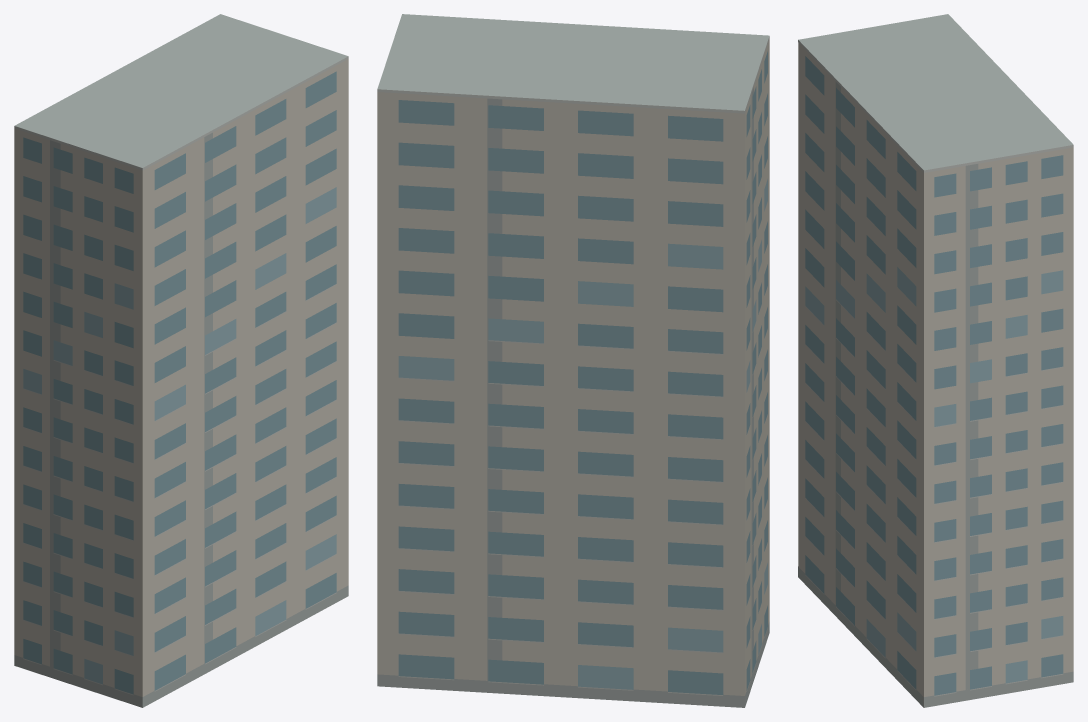
Rendered from residential-382c6c60-bfd9-4953-b75a-600c5de58114.glb.
3 renders of one model, left to right at view 1: azimuth 30°, elevation 25°; view 2: azimuth 150°, elevation 25°; view 3: azimuth 270°, elevation 25°, orthographic. The views are drawn at different scales.
Parts seen in each view (by area): view 1: residential-382c6c60-bfd9-4953-b75a-600c5de58114.tmp; view 2: residential-382c6c60-bfd9-4953-b75a-600c5de58114.tmp; view 3: residential-382c6c60-bfd9-4953-b75a-600c5de58114.tmp.
Boxes of the visible parts, left/top/right/bottom form: residential-382c6c60-bfd9-4953-b75a-600c5de58114.tmp: left=14, top=14, right=348, bottom=707; residential-382c6c60-bfd9-4953-b75a-600c5de58114.tmp: left=377, top=14, right=769, bottom=707; residential-382c6c60-bfd9-4953-b75a-600c5de58114.tmp: left=798, top=14, right=1073, bottom=707.
Bounding box in the file's own units: 32.49 × 52 × 24.18.
